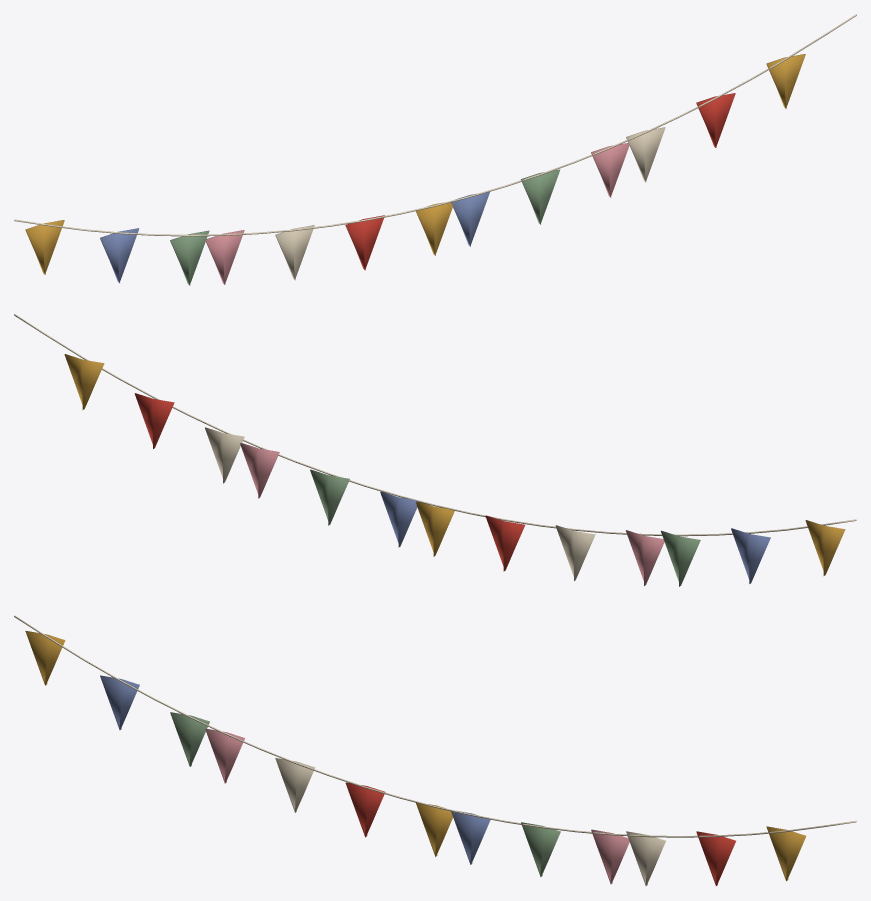
The model's file is bunting.glb.
3 renders of one model, top to bottom at view 1: azimuth 30°, elevation 25°; view 2: azimuth 150°, elevation 25°; view 3: azimuth 330°, elevation 25°, orthographic.
Parts seen in each view (by area): view 1: flags, bunting; view 2: flags, bunting; view 3: flags, bunting.
Boxes of the visible parts, <box> form: flags: <box>25,54,805,285</box>; bunting: <box>14,14,856,236</box>; flags: <box>64,354,845,586</box>; bunting: <box>14,314,856,536</box>; flags: <box>25,631,806,885</box>; bunting: <box>14,615,856,837</box>.
Bounding box in the file's own units: 3 × 0.473 × 0.0146.
